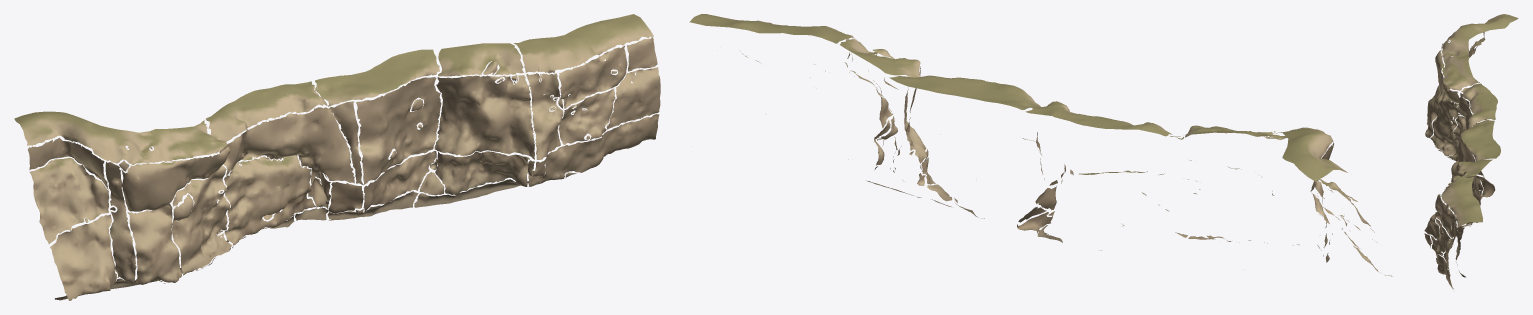
The model's file is SRC_coastal_cliff_02.glb.
The picture shows the model from 3 angles, left to right: view 1: azimuth 30°, elevation 25°; view 2: azimuth 150°, elevation 25°; view 3: azimuth 270°, elevation 25°; orthographic projection. The views are drawn at different scales.
Parts seen in each view (by area): view 1: SRC_coastal_cliff_02; view 2: SRC_coastal_cliff_02; view 3: SRC_coastal_cliff_02.
Boxes of the visible parts, x1,y1,x2,y2 form: SRC_coastal_cliff_02: [14, 14, 660, 300]; SRC_coastal_cliff_02: [689, 14, 1392, 276]; SRC_coastal_cliff_02: [1424, 14, 1518, 290].
Size of the model in its own units: 40.74 by 9.91 by 8.26.
